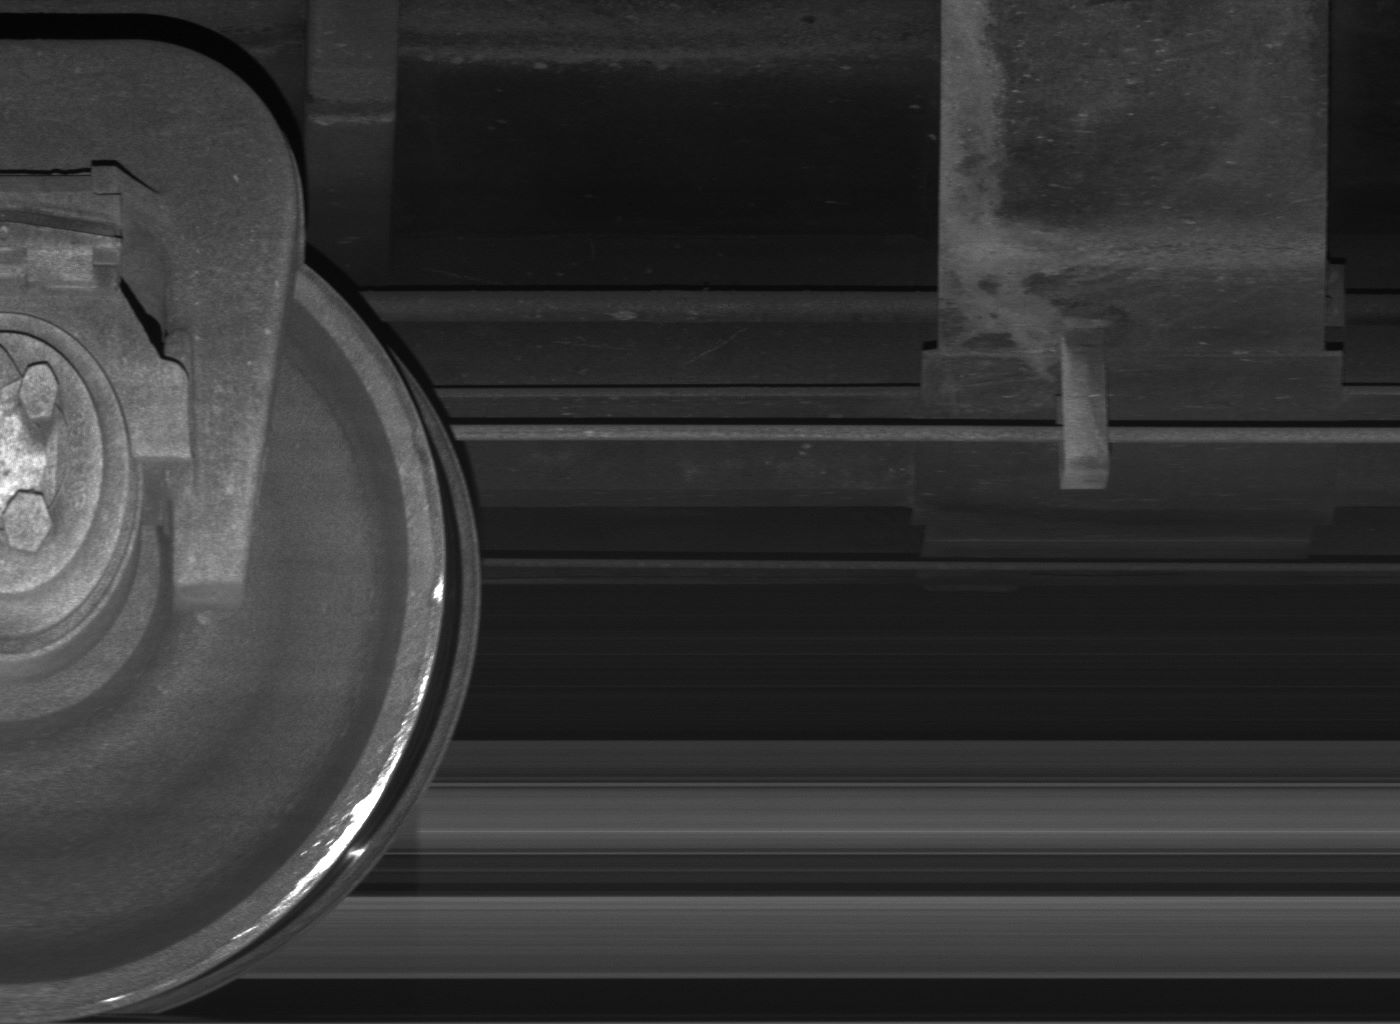normal: (1059, 350, 1111, 488)
